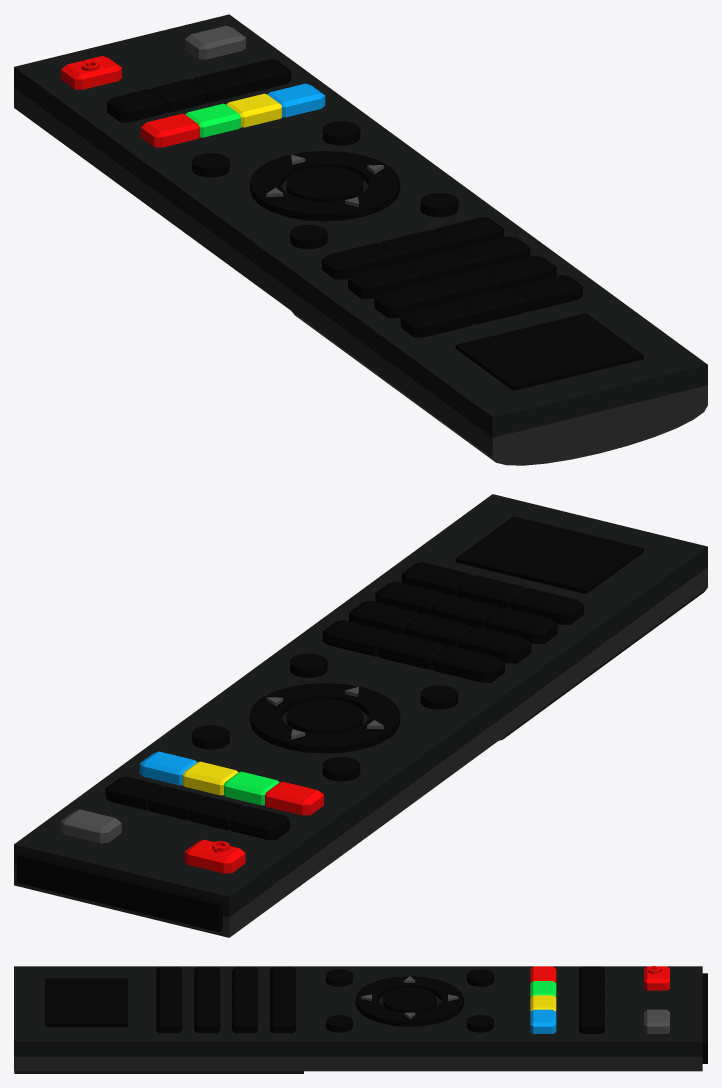
File: Remote.fbx
The picture shows the model from 3 angles, top to bottom: view 1: azimuth 30°, elevation 25°; view 2: azimuth 150°, elevation 25°; view 3: azimuth 270°, elevation 25°; orthographic projection. The views are drawn at different scales.
Parts seen in each view (by area): view 1: Remote; view 2: Remote; view 3: Remote.
Boxes of the visible parts, left/top/right/bottom form: Remote: left=14, top=14, right=707, bottom=465; Remote: left=14, top=494, right=707, bottom=937; Remote: left=14, top=966, right=707, bottom=1073.
Bounding box in the file's own units: 165 × 58.25 × 640.
